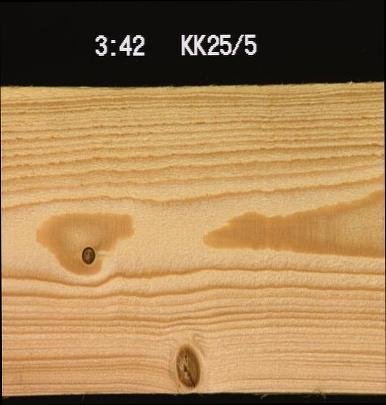dry_knot: (78, 243, 97, 265)
sound_knot: (173, 343, 202, 389)
